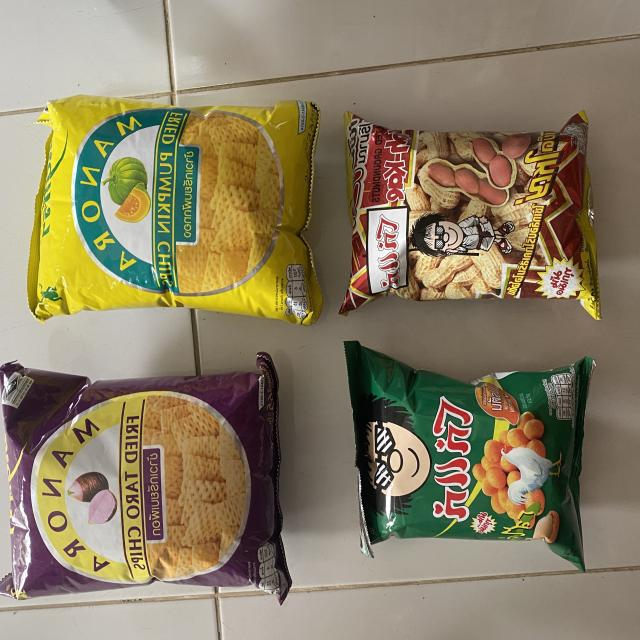plastik: (0, 353, 291, 603), (27, 95, 322, 325), (344, 341, 594, 570), (340, 112, 600, 320)
